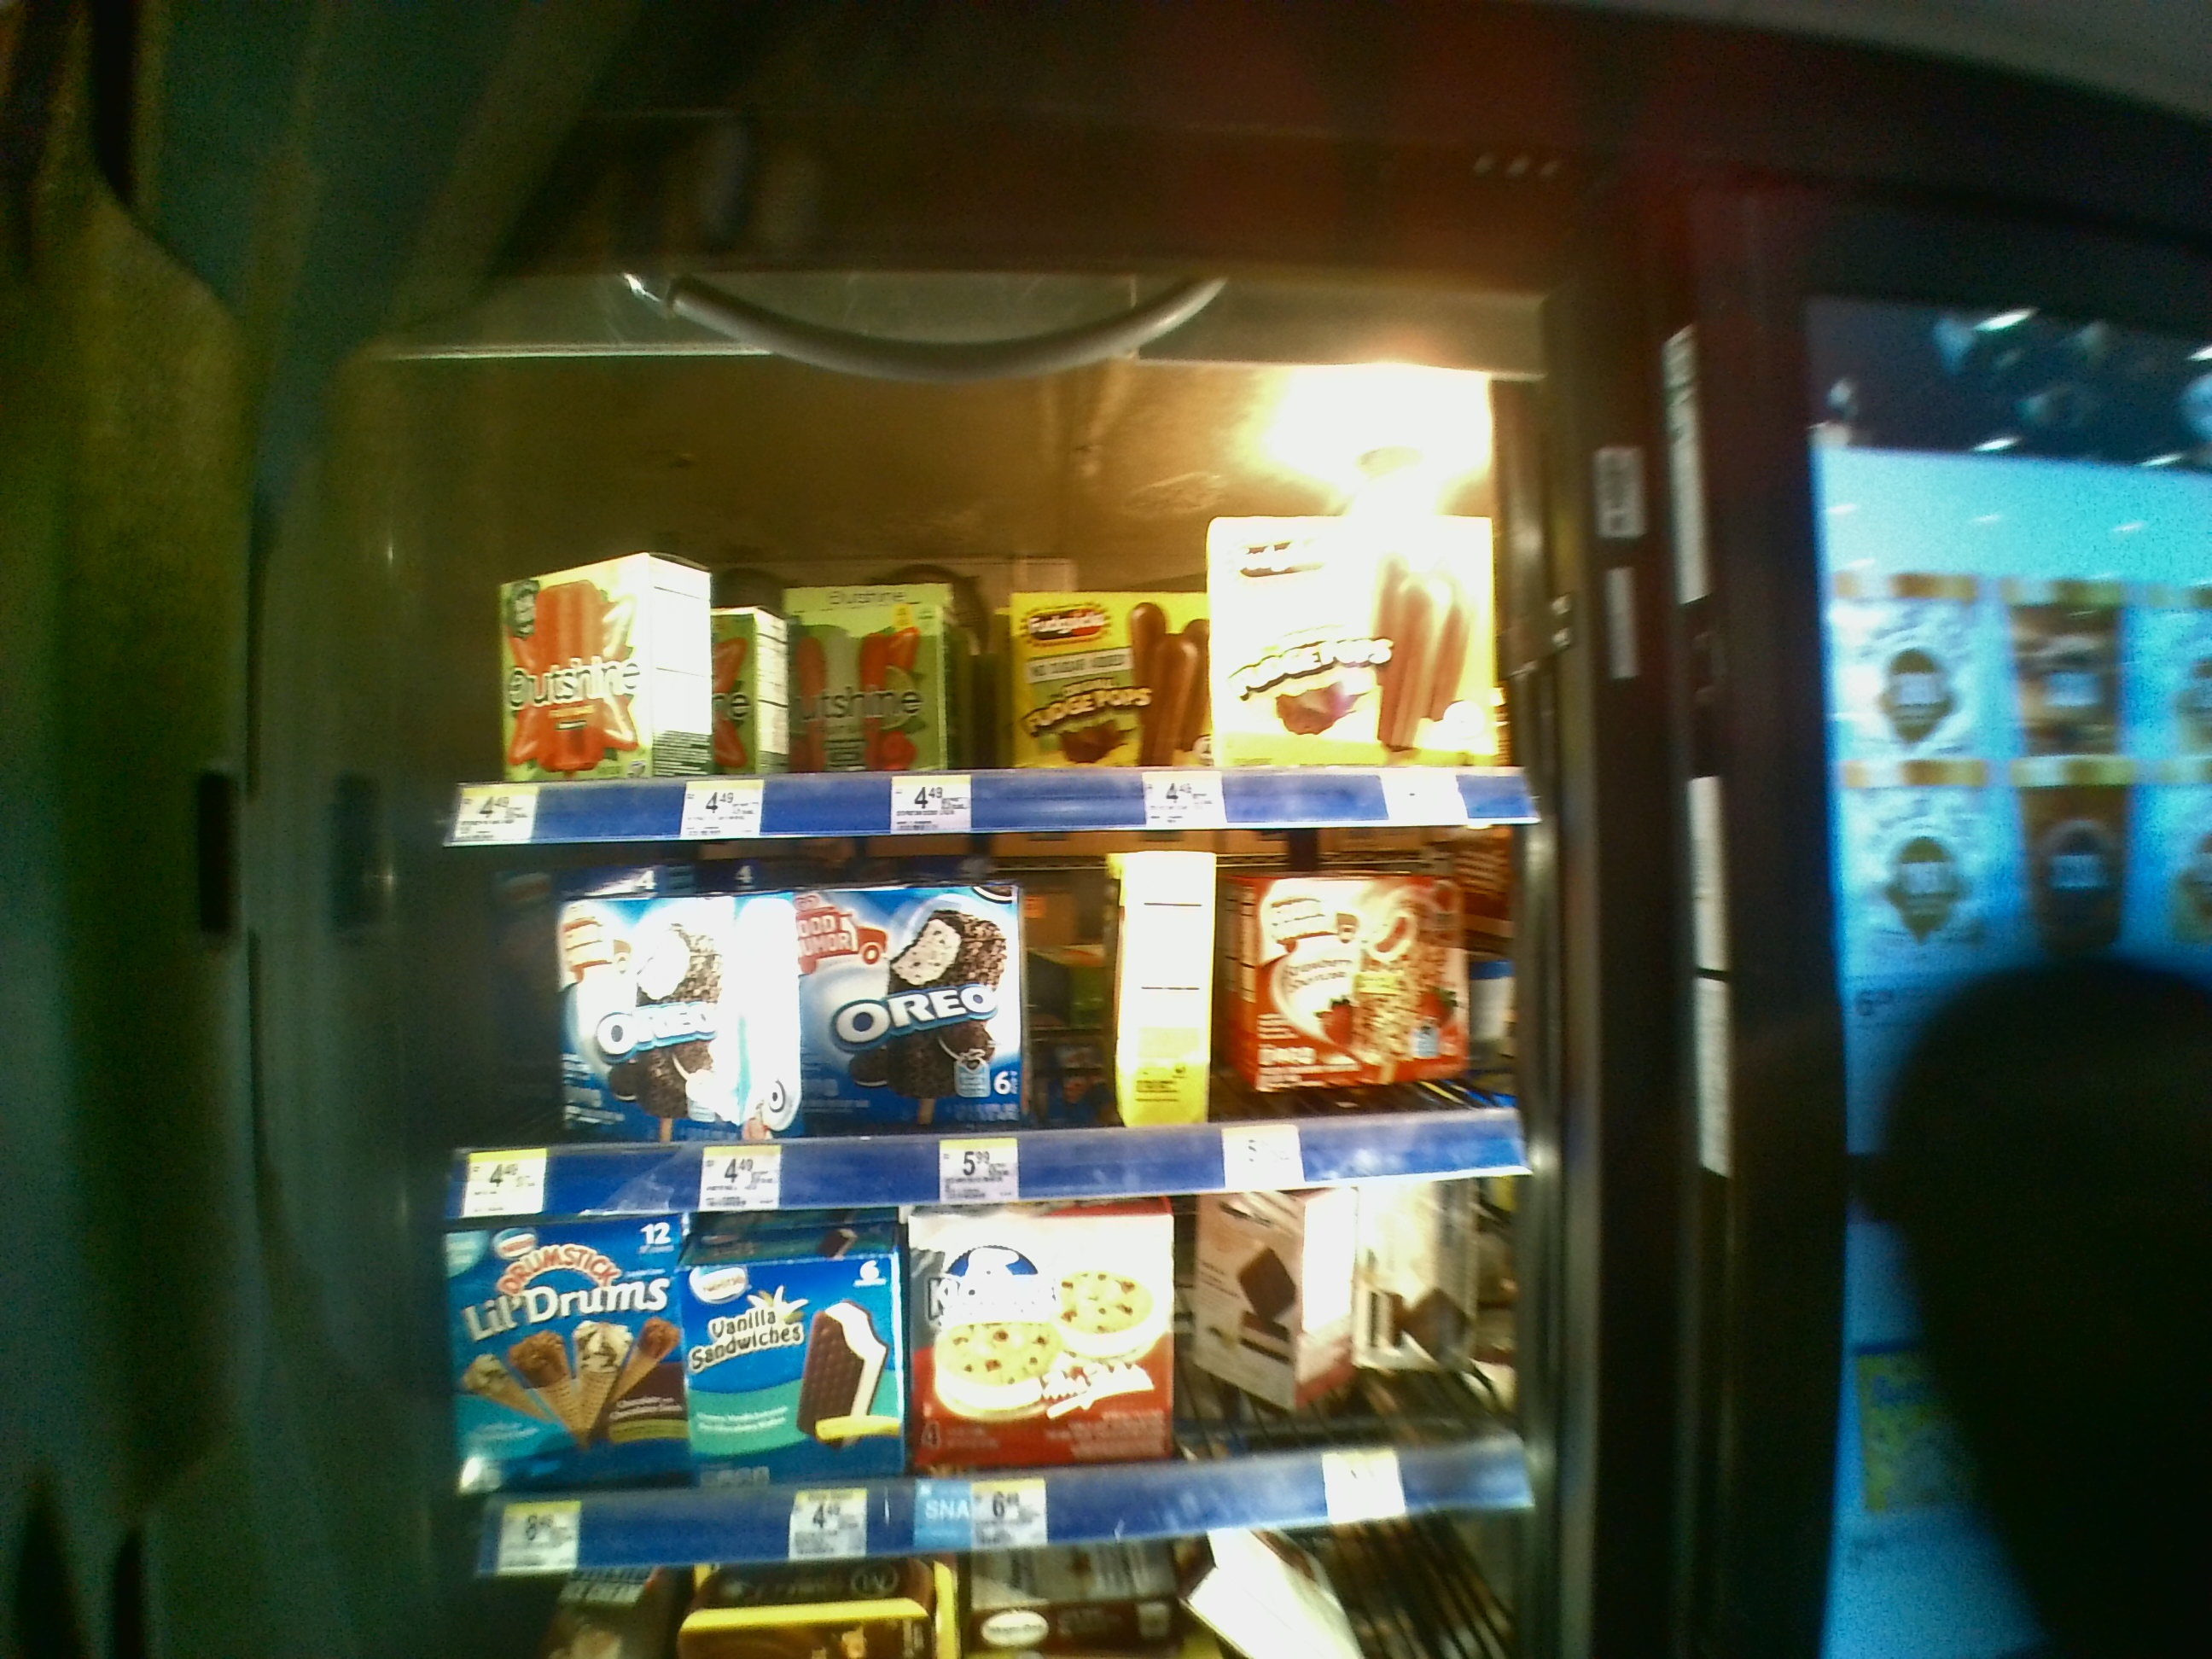shelf: (421, 382, 1538, 849), (441, 868, 1529, 1218)
